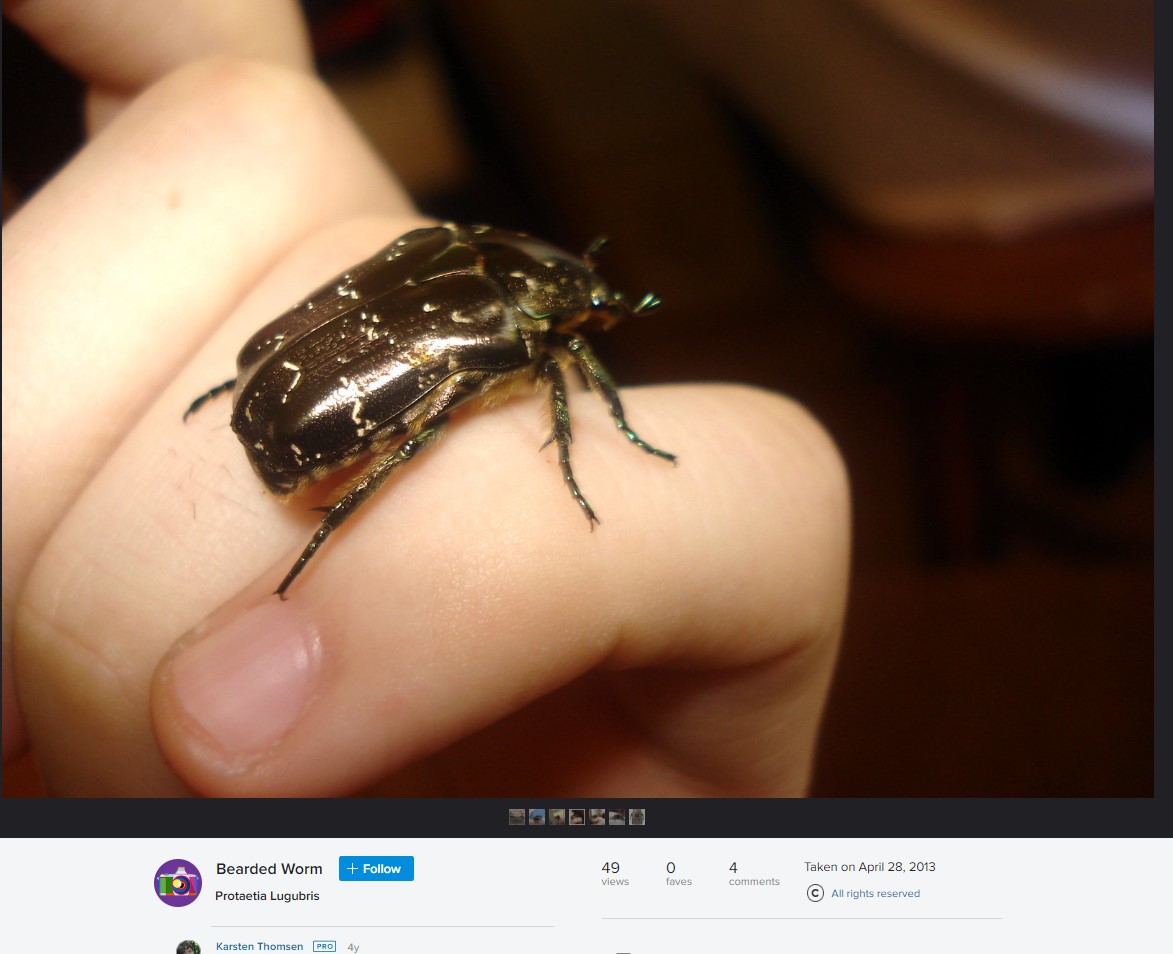Protaetia_lugubris: (176, 205, 695, 606)
